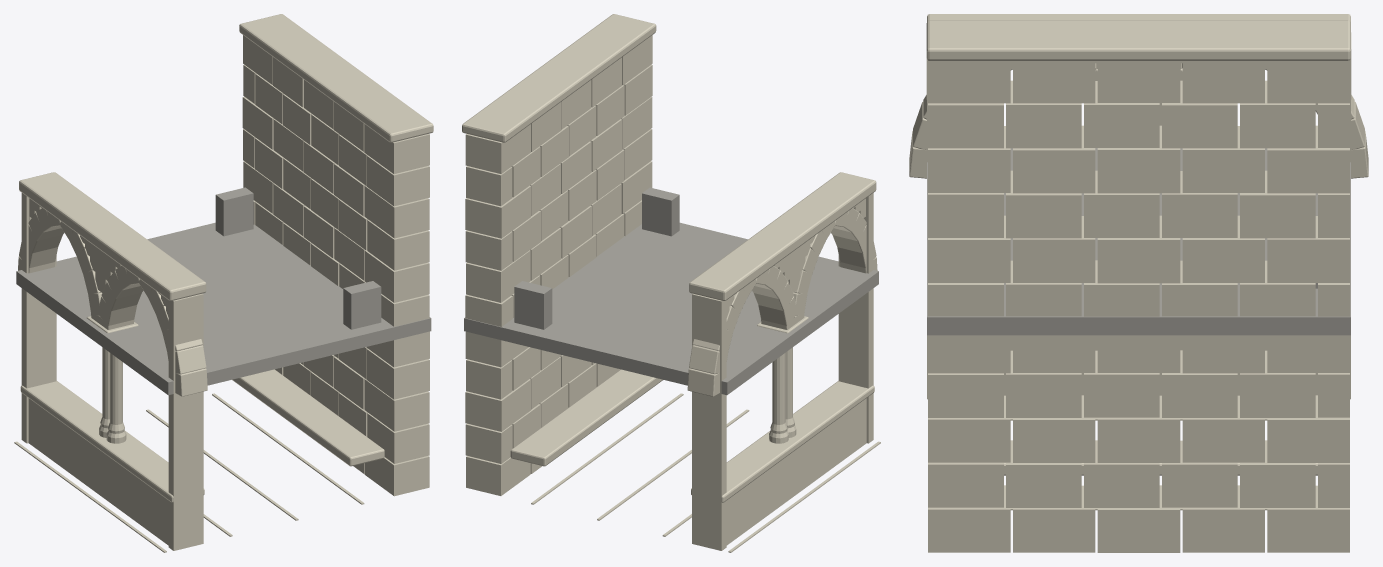
File: monastery_cloister_arcade_bay.glb
The picture shows the model from 3 angles, left to right: view 1: azimuth 30°, elevation 25°; view 2: azimuth 150°, elevation 25°; view 3: azimuth 270°, elevation 25°; orthographic projection. The views are drawn at different scales.
Parts seen in each view (by area): view 1: world; view 2: world; view 3: world.
Part boxes in pixels (left/top/right/bottom): world: left=14, top=14, right=433, bottom=552; world: left=462, top=14, right=880, bottom=552; world: left=909, top=14, right=1368, bottom=552.
Bounding box in the file's own units: 1.55 × 2 × 1.64.
